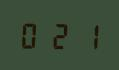one: (73, 20, 99, 50)
two: (46, 19, 72, 50)
zero: (18, 19, 44, 49)
